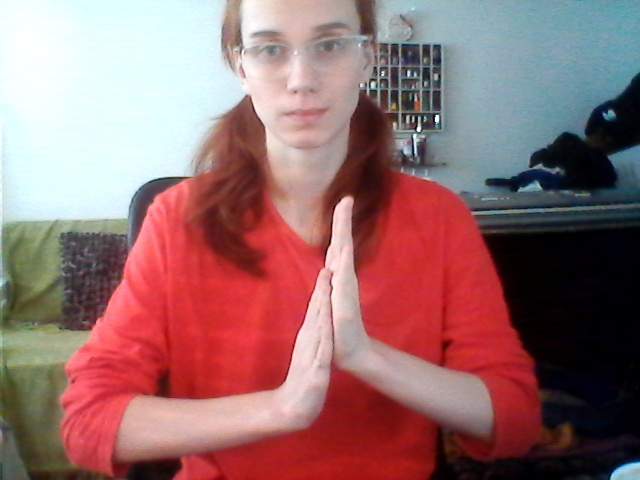prosim: (231, 193, 434, 452)
